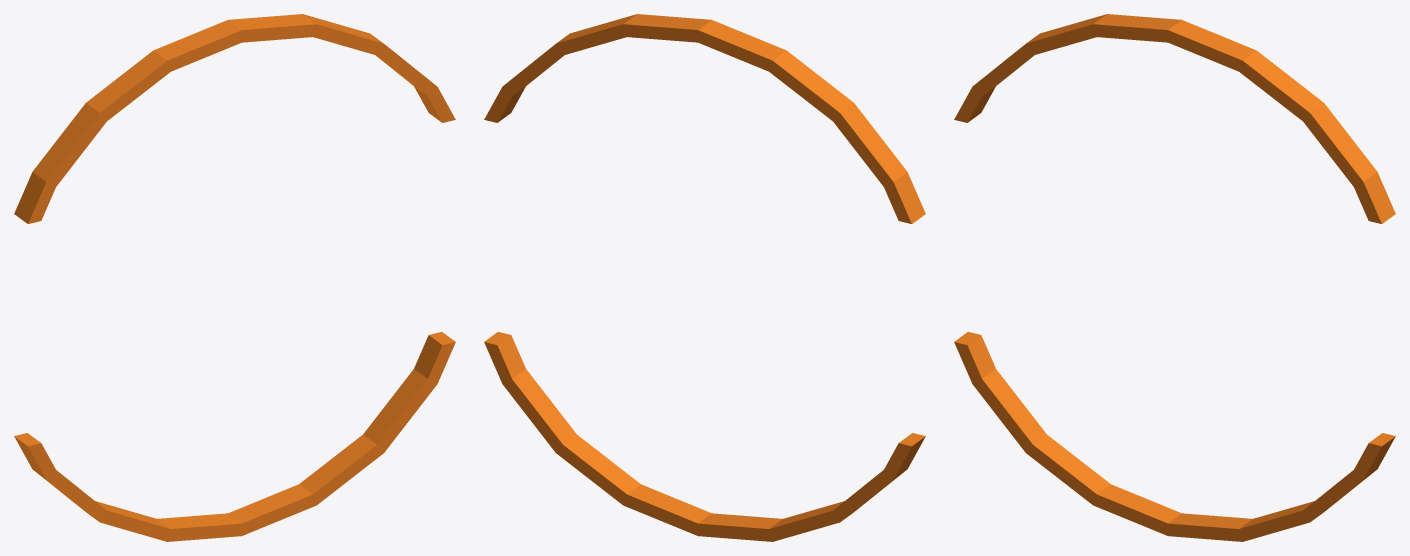
File: tinker.obj
The picture shows the model from 3 angles, left to right: view 1: azimuth 30°, elevation 25°; view 2: azimuth 150°, elevation 25°; view 3: azimuth 330°, elevation 25°; orthographic projection.
Visible parts, largest first — view 1: obj_0; view 2: obj_0; view 3: obj_0.
Part boxes in pixels (box(x1,y1,x2,y2)): obj_0: box(14, 14, 455, 541); obj_0: box(484, 14, 925, 541); obj_0: box(954, 14, 1395, 541).
Size of the model in its own units: 17.7 by 20 by 1.
